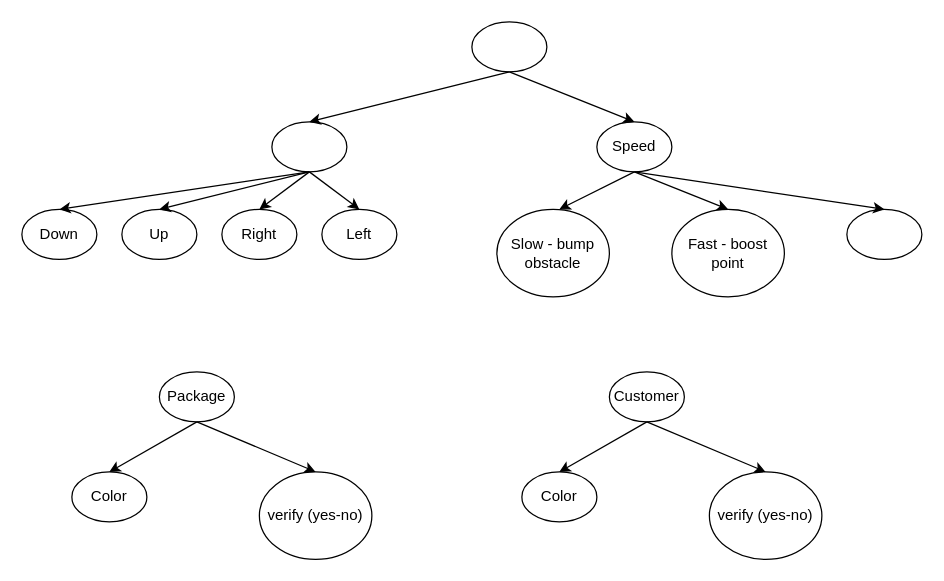
Image size: 944x581. Some labels were removed from this diagram. The shapes that lost their labels are listed below. From the top down, each one's box as (x1, y1, x2, y2) in pixels, then its label:
(471, 21, 547, 72): Car
(271, 121, 347, 172): Steer
(846, 208, 922, 259): Normal
